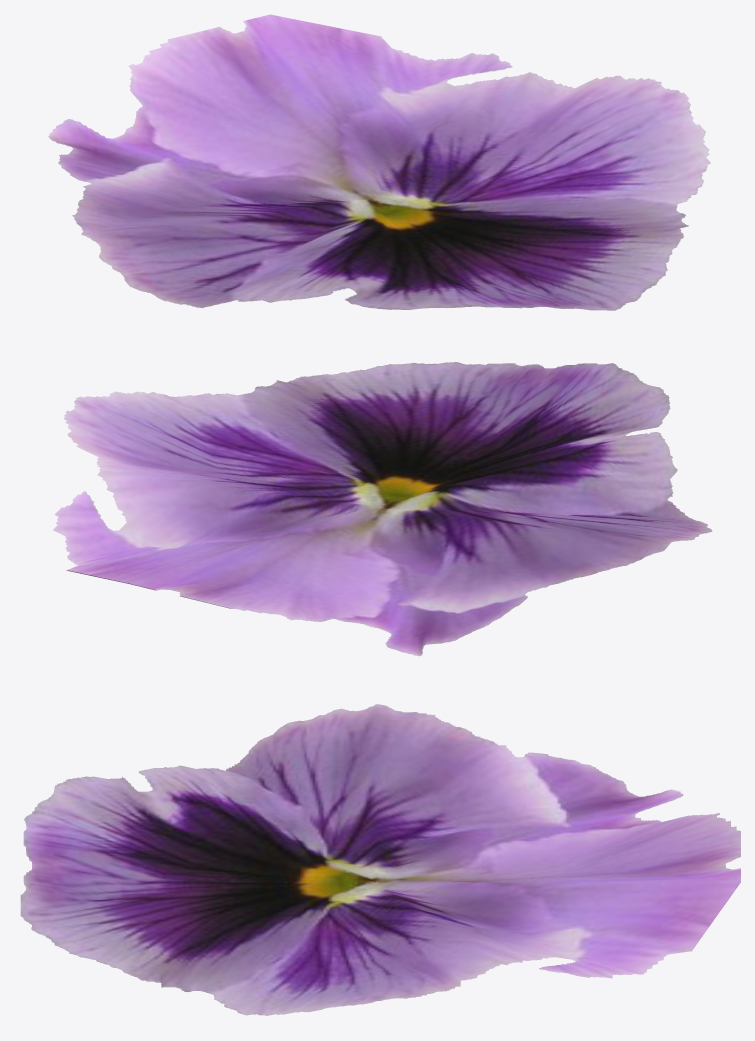
File: EdibleFlowers.fbx
The picture shows the model from 3 angles, top to bottom: view 1: azimuth 30°, elevation 25°; view 2: azimuth 150°, elevation 25°; view 3: azimuth 270°, elevation 25°; orthographic projection. The views are drawn at different scales.
Parts seen in each view (by area): view 1: EdibleFlowers; view 2: EdibleFlowers; view 3: EdibleFlowers.
Boxes of the visible parts, <box> form: EdibleFlowers: <box>48,14,710,310</box>; EdibleFlowers: <box>53,362,712,656</box>; EdibleFlowers: <box>20,704,740,1015</box>.
Size of the model in its own units: 3.81 by 0.2167 by 3.72.
1 material, 1 textured.
